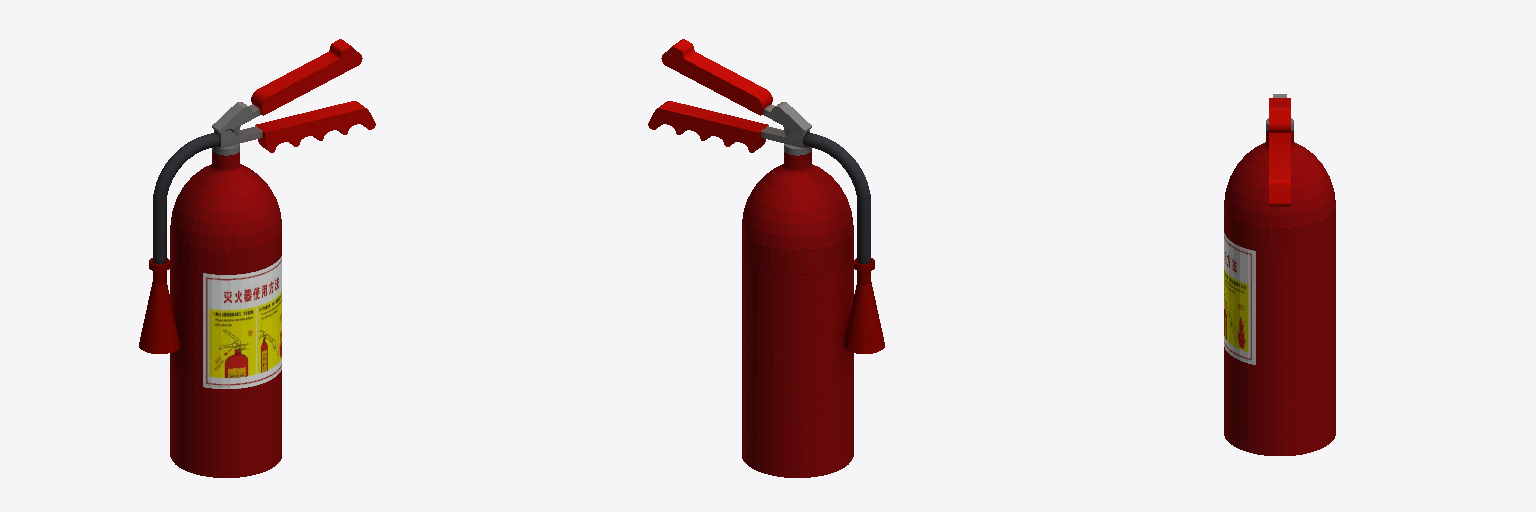
3 views of the same model, side by side, from view 1: azimuth 30°, elevation 25°; view 2: azimuth 150°, elevation 25°; view 3: azimuth 270°, elevation 25° (orthographic).
Parts seen in each view (by area): view 1: 3_1; view 2: 3_1; view 3: 3_1.
Boxes of the visible parts, x1,y1,x2,y2 form: 3_1: [139, 39, 375, 477]; 3_1: [648, 39, 884, 477]; 3_1: [1224, 94, 1335, 455].
Bounding box in the file's own units: 56.49 × 90.12 × 23.94.
1 materials, 1 textured.